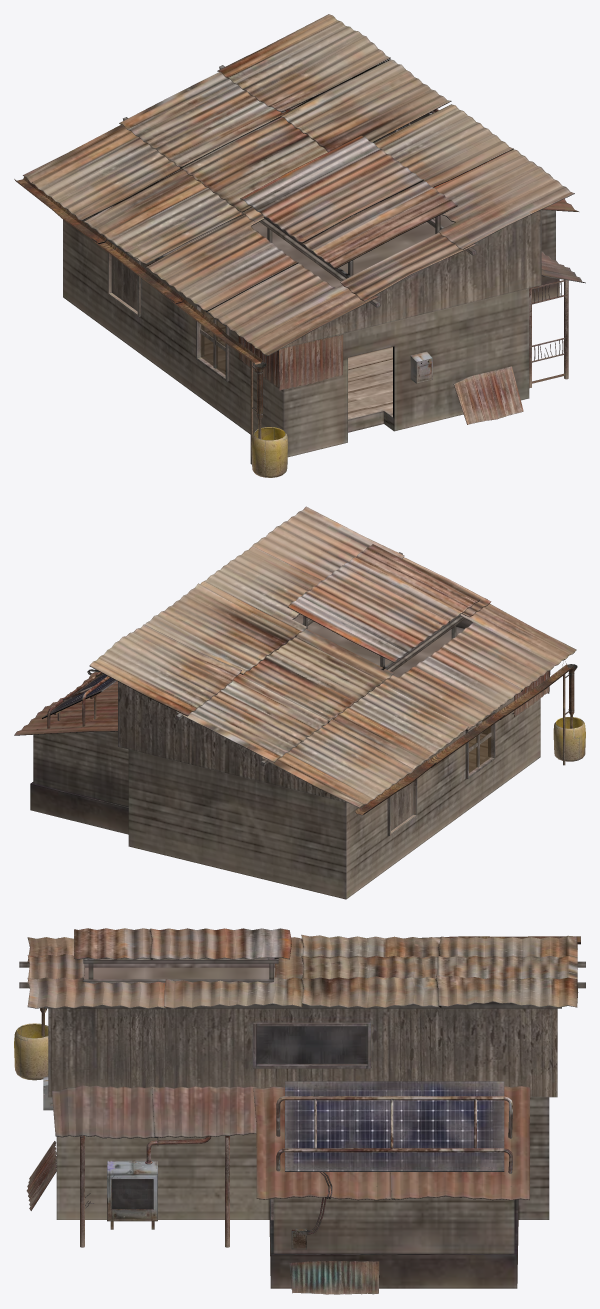
Rendered from post.glb.
3 renders of one model, top to bottom at view 1: azimuth 30°, elevation 25°; view 2: azimuth 150°, elevation 25°; view 3: azimuth 270°, elevation 25°, orthographic. The views are drawn at different scales.
Parts seen in each view (by area): view 1: Object_40, Object_4, Object_38, Object_56, Object_6, Object_24; view 2: Object_40, Object_4, Object_38, Object_56, Object_6, Object_24; view 3: Object_40, Object_38, Object_4, Object_6, Object_56.
Part boxes in pixels (left/top/right/bottom): Object_40: left=23, top=14, right=585, bottom=355; Object_4: left=63, top=209, right=559, bottom=457; Object_38: left=93, top=65, right=541, bottom=390; Object_56: left=14, top=177, right=568, bottom=477; Object_6: left=107, top=109, right=438, bottom=381; Object_24: left=201, top=309, right=225, bottom=374; Object_40: left=14, top=506, right=576, bottom=808; Object_4: left=30, top=696, right=540, bottom=899; Object_38: left=118, top=552, right=550, bottom=802; Object_56: left=87, top=659, right=585, bottom=815; Object_6: left=42, top=672, right=495, bottom=835; Object_24: left=469, top=715, right=490, bottom=772; Object_40: left=27, top=928, right=578, bottom=1200; Object_38: left=19, top=947, right=585, bottom=1097; Object_4: left=56, top=1097, right=549, bottom=1288; Object_6: left=253, top=1022, right=512, bottom=1220; Object_56: left=14, top=936, right=580, bottom=1294.
Size of the model in its own units: 10.36 by 4.89 by 10.67.
Materials: 6 (5 with a texture image).
